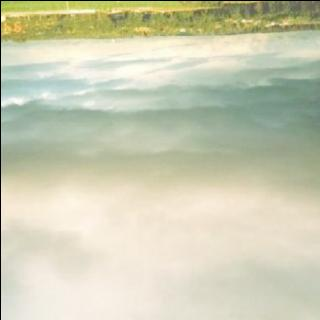Stratocumulus: (0, 38, 320, 320)
